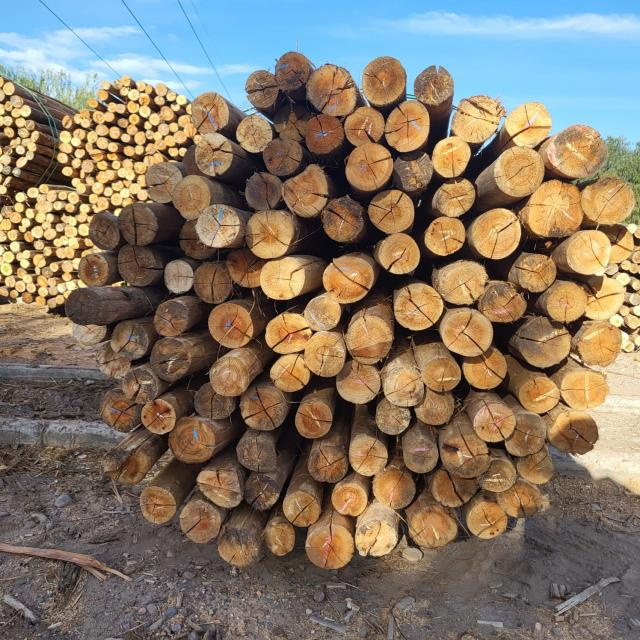package: (65, 49, 633, 570), (57, 76, 197, 208), (1, 183, 97, 308), (1, 74, 44, 196)
